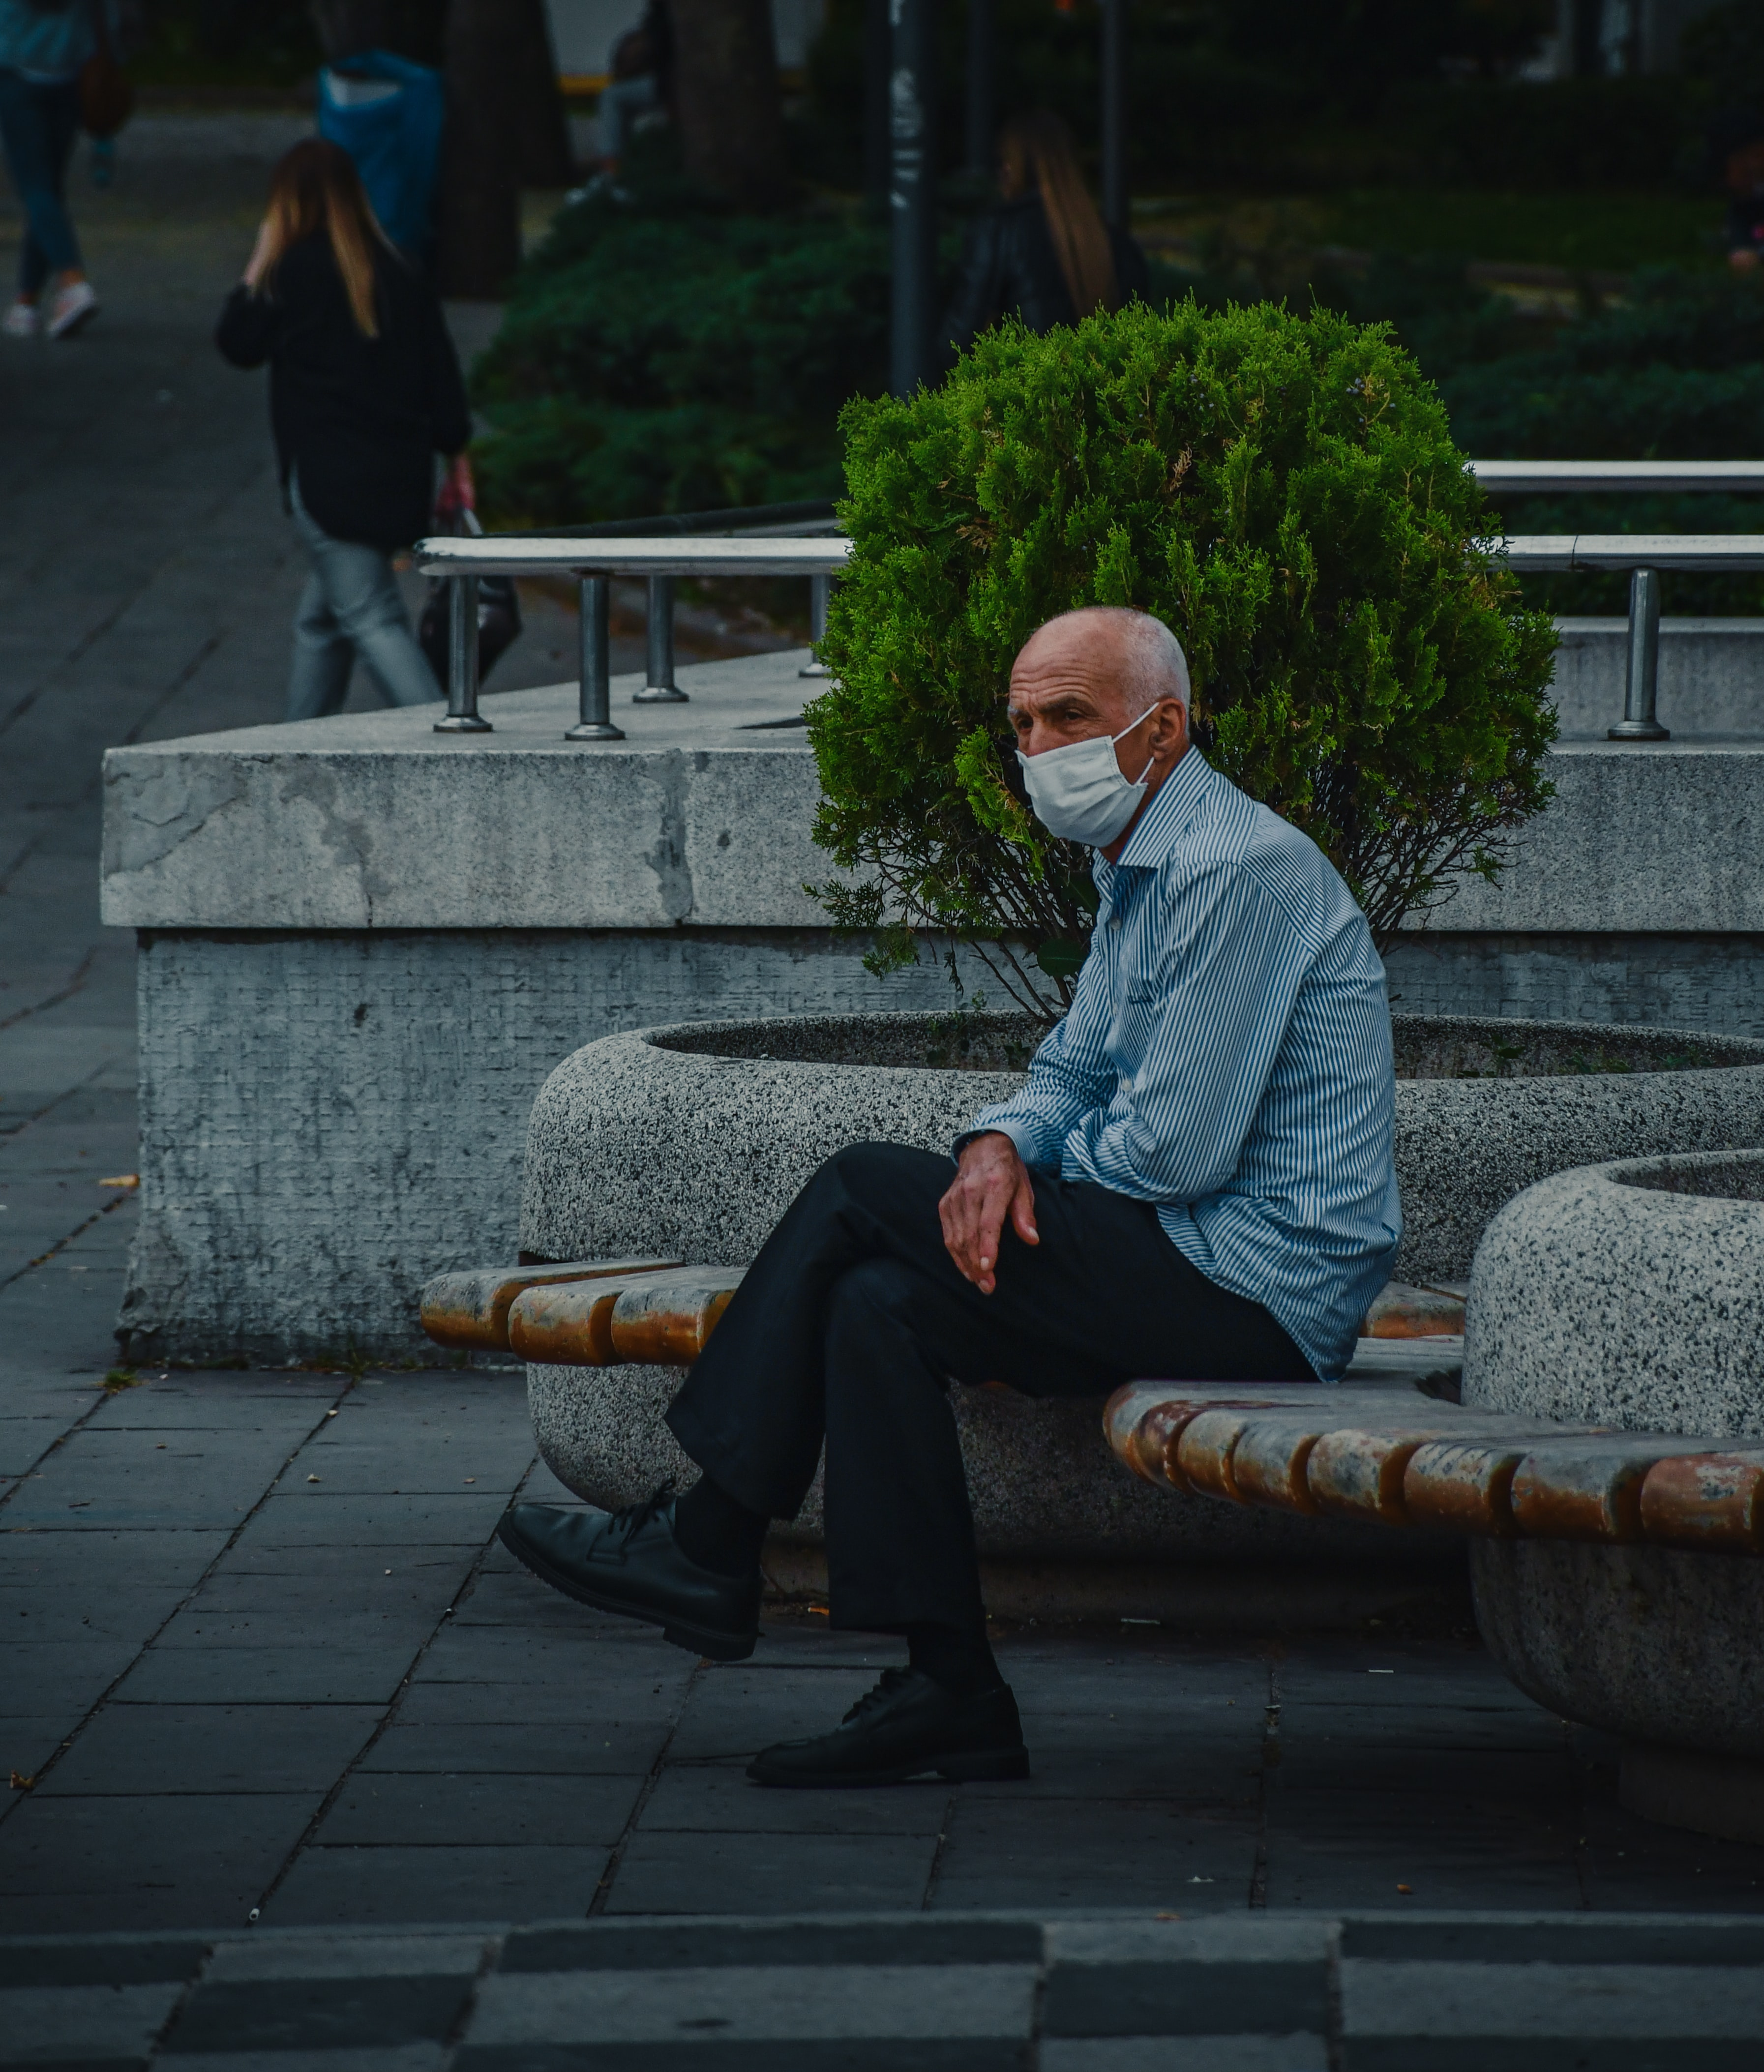mask: (992, 739, 1170, 837)
person: (519, 590, 1392, 1791)
